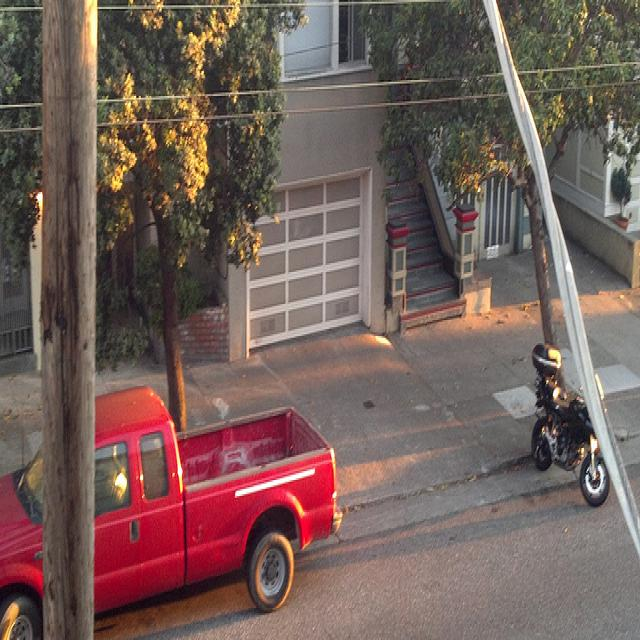motor: (532, 336, 608, 499)
